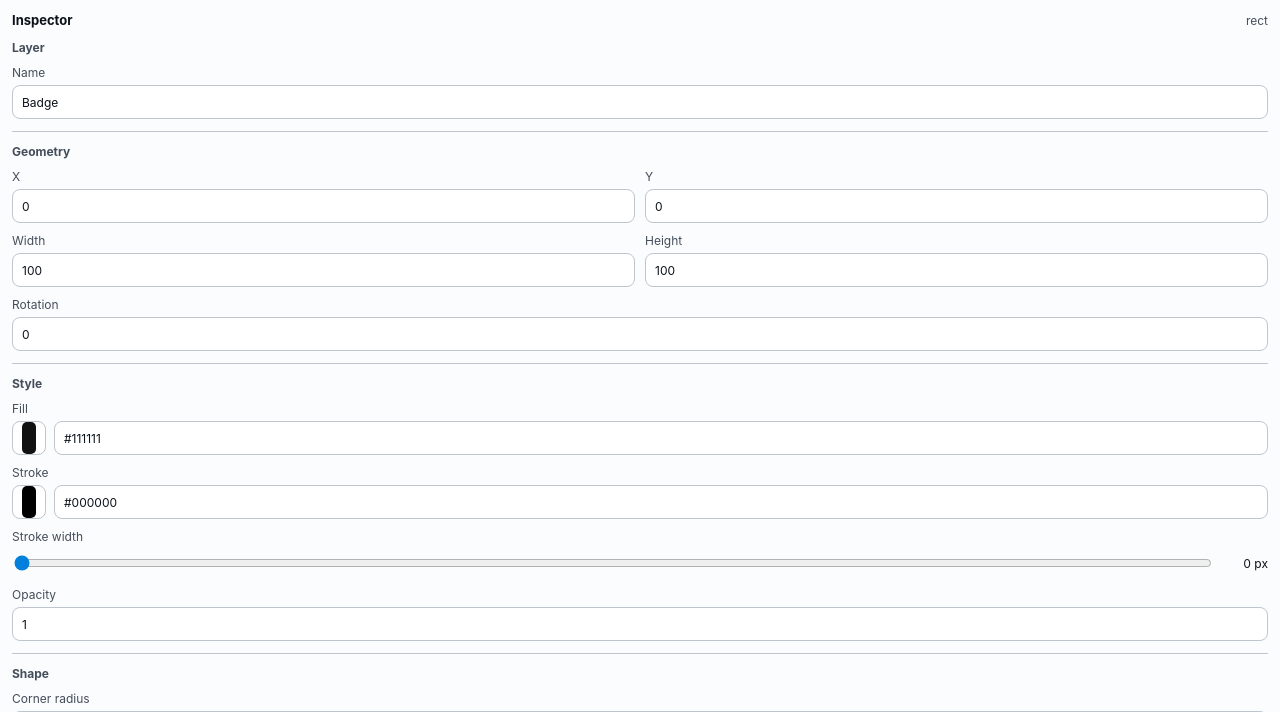
Test: editor panels › does not commit invalid numbers
Clear the number field labelled "Width" at [324, 270], box [12, 253, 635, 287]
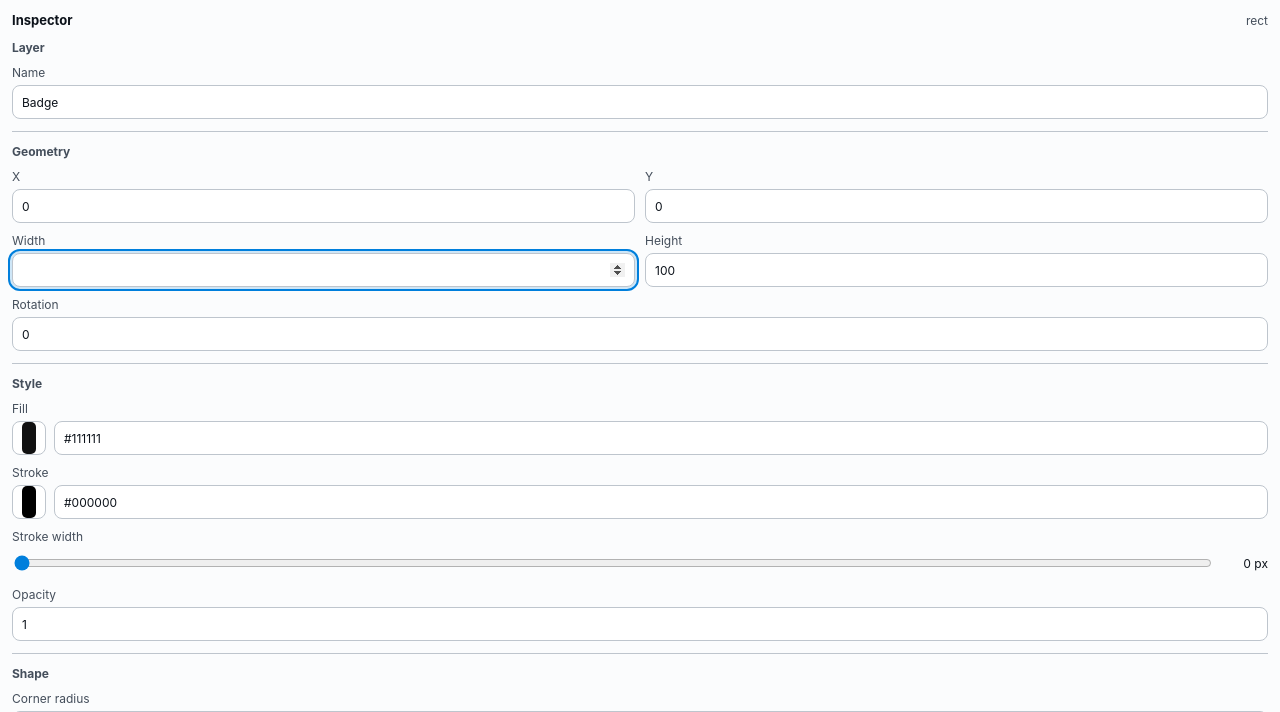
Press Tab
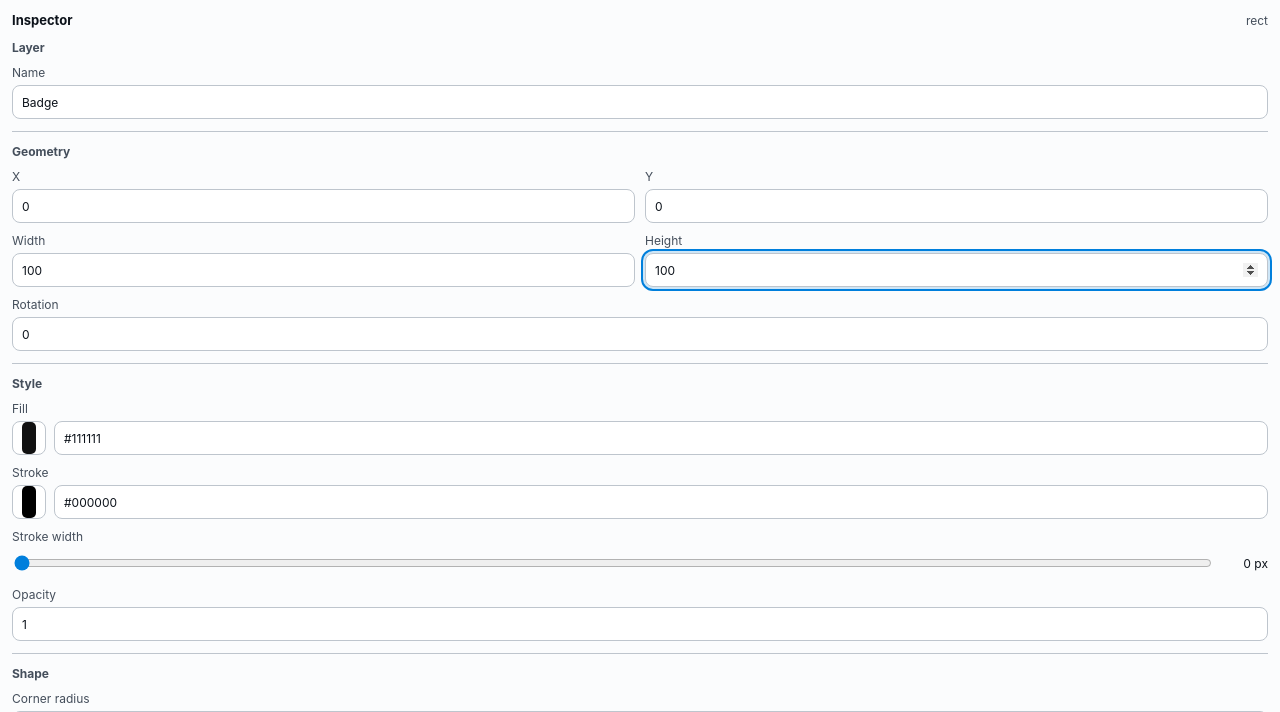
Check: the number field labelled "Width" holds "100", box [12, 253, 635, 287]
